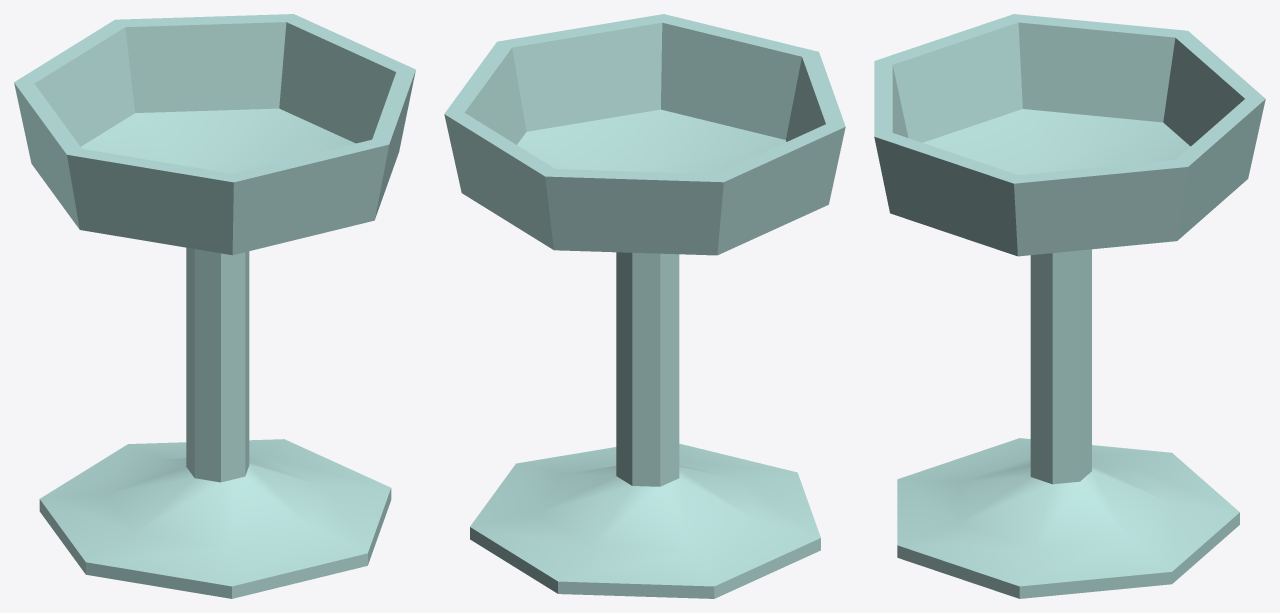
File: COPA.fbx
3 views of the same model, side by side, from view 1: azimuth 30°, elevation 25°; view 2: azimuth 150°, elevation 25°; view 3: azimuth 270°, elevation 25° (orthographic).
Visible parts, largest first — view 1: COPA; view 2: COPA; view 3: COPA.
Boxes of the visible parts, bbox=[...] form: COPA: bbox=[14, 14, 415, 598]; COPA: bbox=[444, 14, 845, 598]; COPA: bbox=[874, 14, 1265, 598].
Size of the model in its own units: 14.31 by 16.74 by 13.95.
